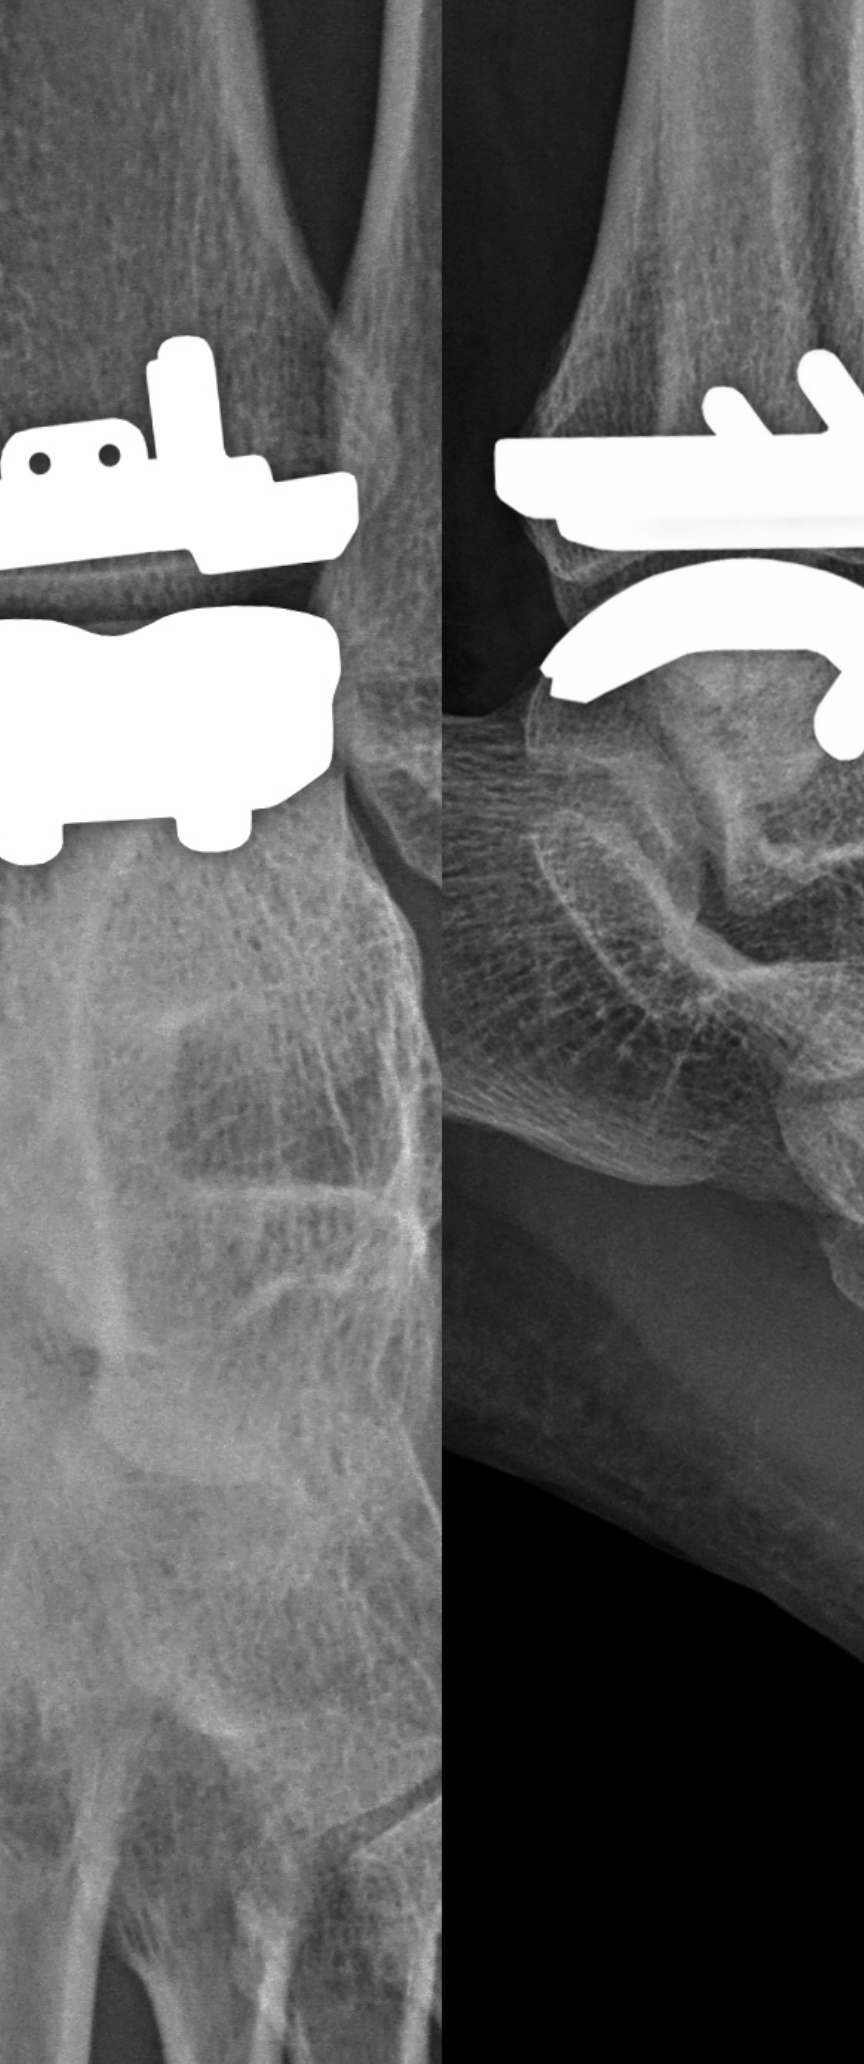Cadence-Integra: (1, 297, 365, 895), (468, 340, 861, 778)
